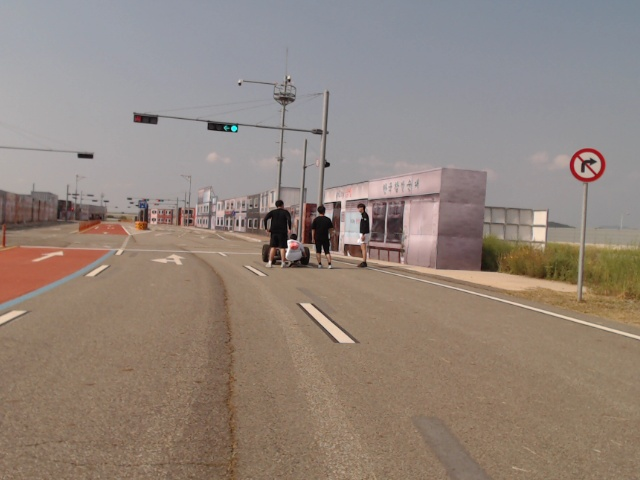all_green_4: (207, 121, 240, 133)
